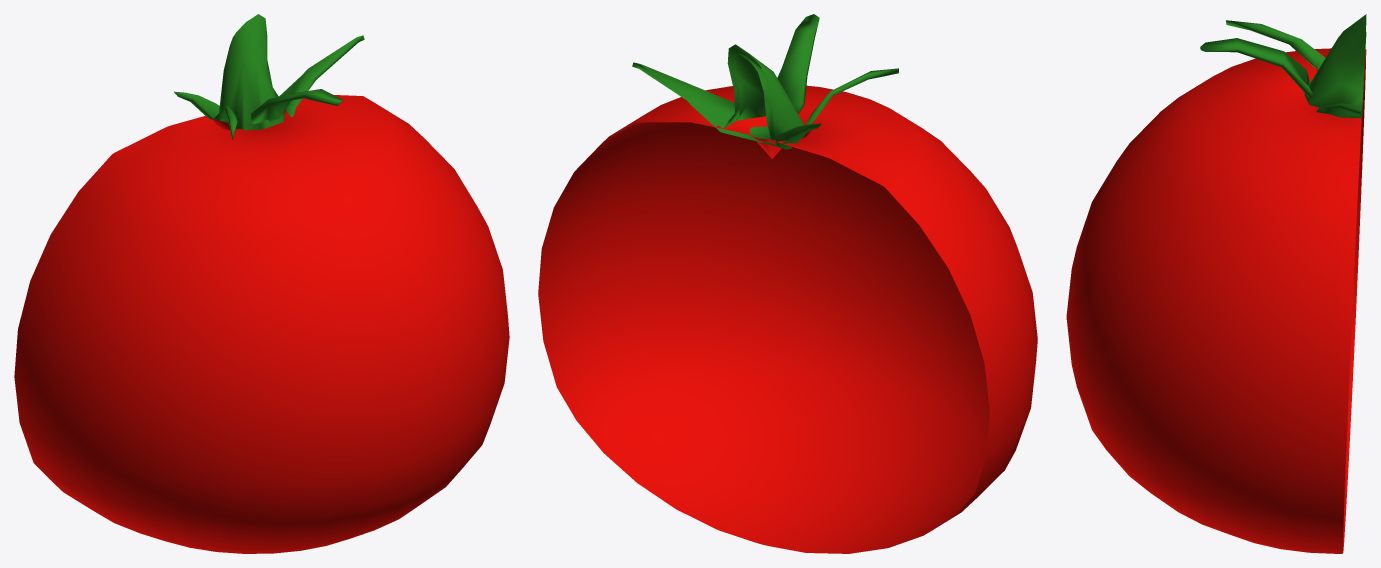
File: Tomatocut2.fbx
3 renders of one model, left to right at view 1: azimuth 30°, elevation 25°; view 2: azimuth 150°, elevation 25°; view 3: azimuth 270°, elevation 25°, orthographic. The views are drawn at different scales.
Parts seen in each view (by area): view 1: Tomato; view 2: Tomato; view 3: Tomato.
Boxes of the visible parts, <box> form: Tomato: <box>14,14,509,553</box>; Tomato: <box>538,14,1037,553</box>; Tomato: <box>1066,14,1366,553</box>.
Bounding box in the file's own units: 529 × 553 × 292.
